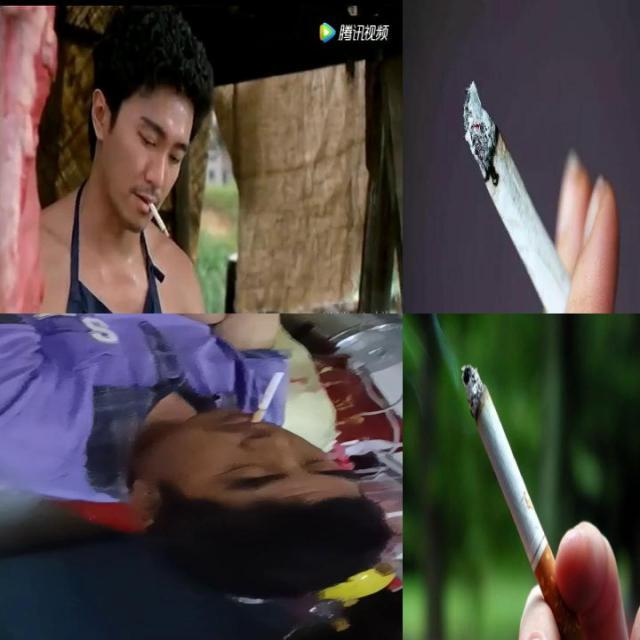smoking: (461, 363, 587, 639), (462, 79, 595, 313), (251, 372, 286, 423), (148, 199, 170, 239)
